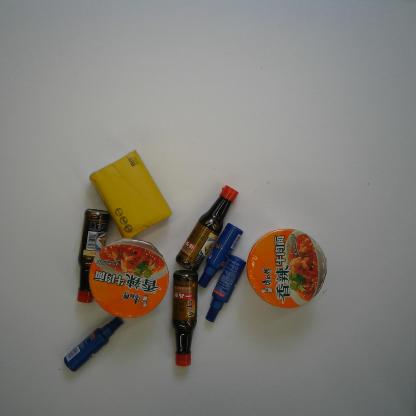Instant Noodles: (88, 238, 170, 319), (246, 228, 327, 309)
Personal Hygiene: (63, 315, 125, 372), (197, 222, 244, 289), (204, 254, 247, 324)
Seasoner: (174, 185, 239, 273), (76, 209, 111, 304), (171, 269, 199, 367)
Tissue: (88, 150, 172, 240)
